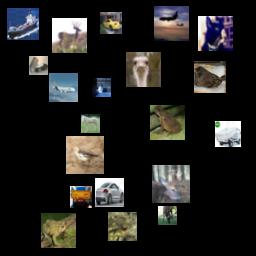airplane: (154, 6, 189, 41), (49, 73, 78, 102)
automobile: (95, 178, 124, 207), (100, 12, 122, 34)
bird: (66, 136, 104, 174), (126, 52, 161, 87), (194, 61, 226, 93)
cat: (198, 16, 233, 51), (92, 78, 111, 97)
deer: (152, 165, 190, 203), (52, 18, 87, 53), (158, 206, 177, 225)
frog: (150, 105, 185, 140), (41, 213, 76, 248), (108, 212, 137, 241)
ship: (7, 8, 39, 40)
truck: (215, 121, 241, 147), (70, 186, 92, 208), (29, 56, 48, 75)
